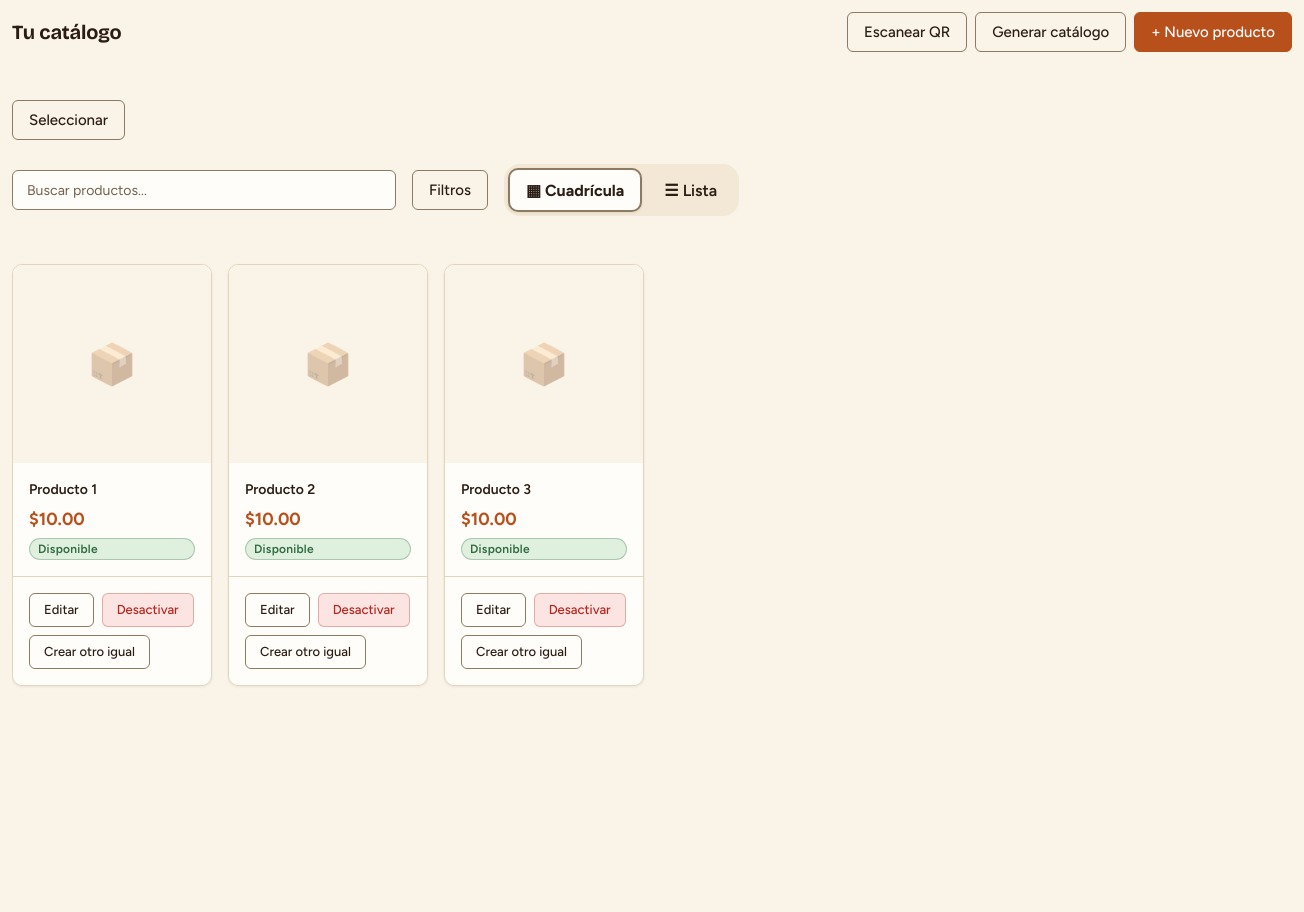
Test: ProductCatalogView — selección para imprimir códigos QR › al entrar en modo selección aparecen las casillas y el contador; sin selección no hay "Imprimir"
Click the button "Seleccionar" at [68, 120], box [12,100,125,140]
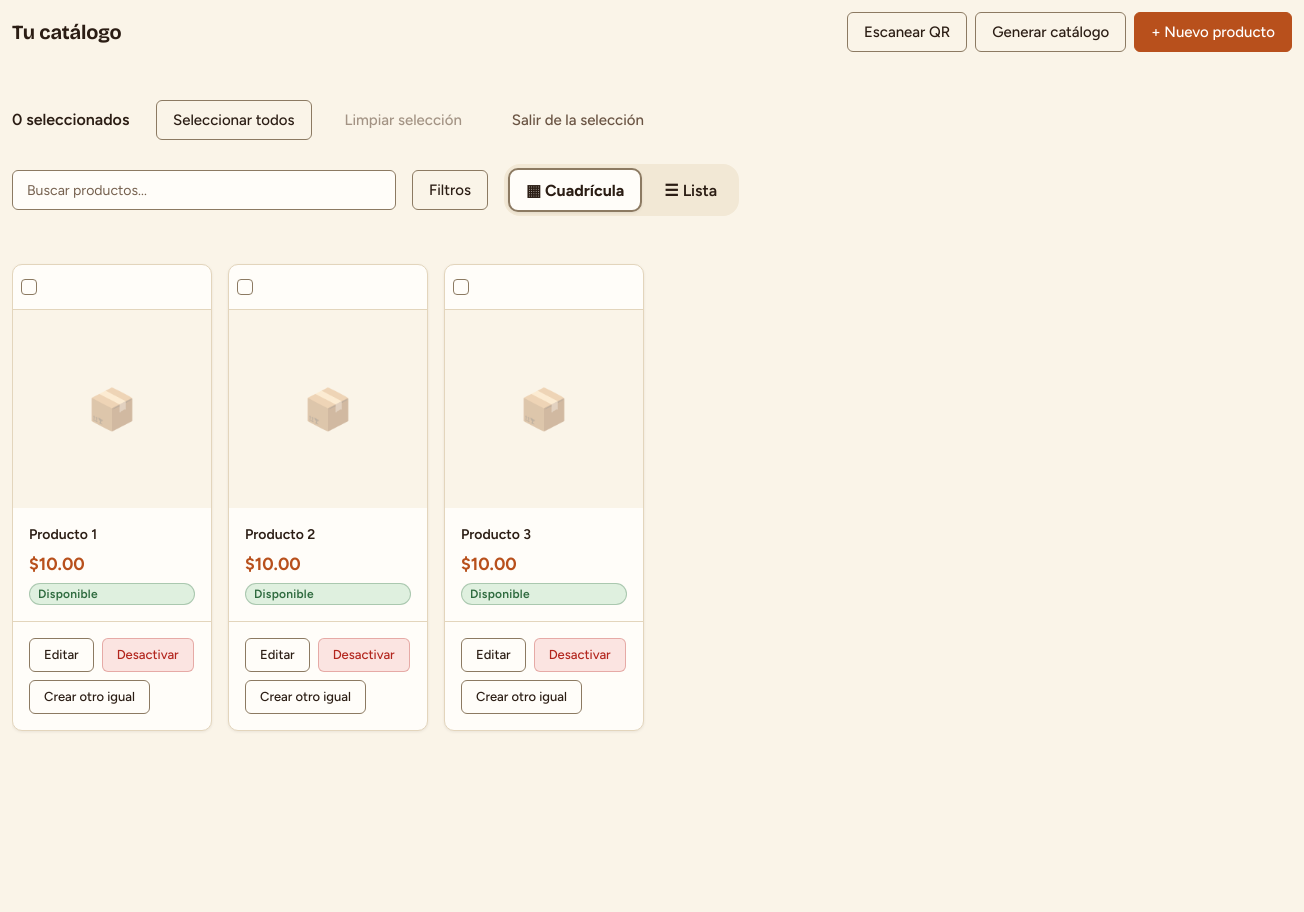
Now the text "0 seleccionados" is shown, box [12,107,140,133]
